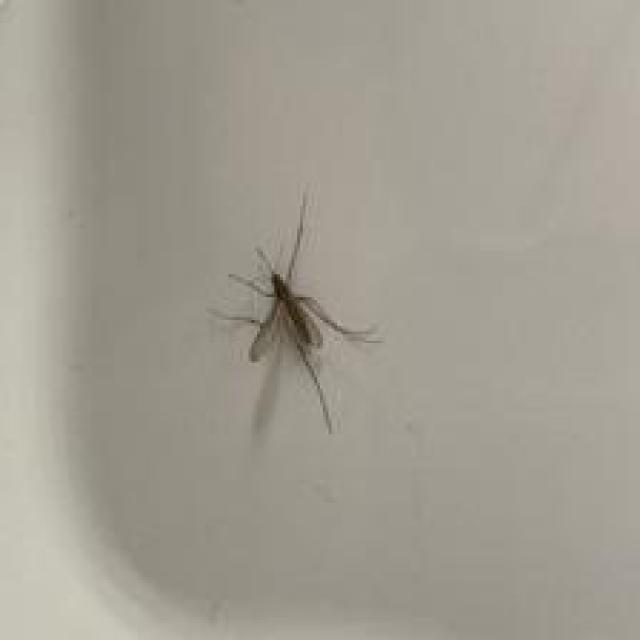Culex: (206, 187, 383, 436)
